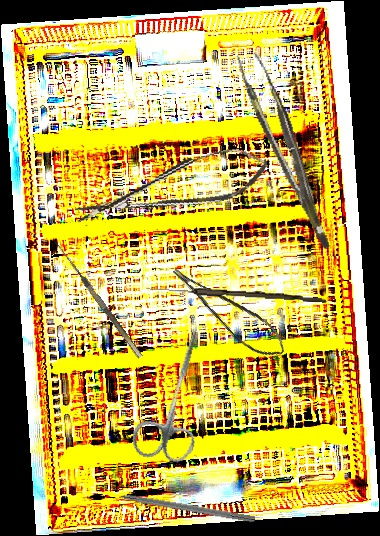Hook Surgical: (48, 239, 143, 364), (101, 487, 256, 524)
Iris Scissors: (127, 316, 226, 469)
Micro Scissor: (70, 141, 273, 234), (169, 250, 292, 369)
Surgical Spoon: (145, 285, 327, 303)
Tissue Forceps: (235, 44, 331, 258)
